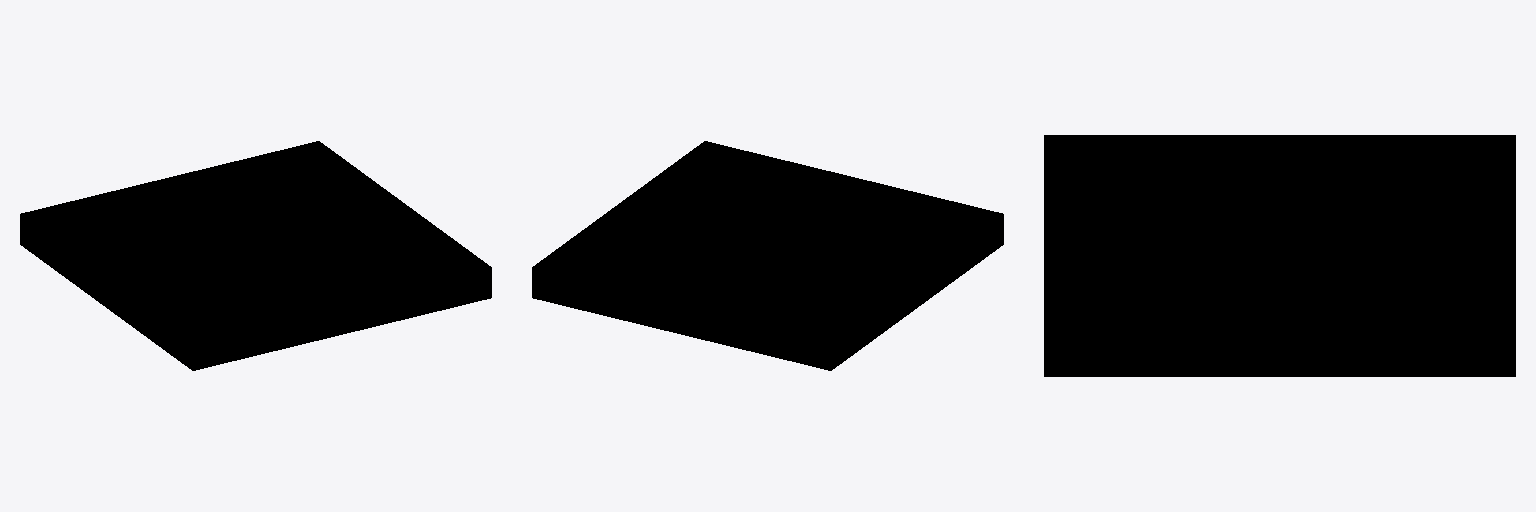
URDF robot description (plane):
<?xml version="1.0" ?>
<robot name="plane">
  <link name="planeLink">
  <contact>
      <lateral_friction value="1"/>
  </contact>
  <inertial>
    <origin rpy="0 0 0" xyz="0 0 0"/>
    <mass value=".0"/>
    <inertia ixx="0" ixy="0" ixz="0" iyy="0" iyz="0" izz="0"/>
  </inertial>
  <visual>
    <origin rpy="0 0 0" xyz="0 0 0"/>
    <geometry>
      <box size="1000 1000 100"/>
    </geometry>
    <material name="White">
      <color rgba="0 0 0 1" />
    </material>
  </visual>
  <collision>
    <origin rpy="0 0 0" xyz="0 0 0"/>
    <geometry>
    <box size="1000 1000 100"/>
    </geometry>
  </collision>
  </link>
</robot>

--- Facts derived from the render (not from the file) ---
Views: 3 orthographic renders of the robot side by side, from view 1: azimuth 30°, elevation 25°; view 2: azimuth 150°, elevation 25°; view 3: azimuth 270°, elevation 25°.
Robot: plane — 1 links, 0 joints (none); root link planeLink; default pose: every joint at zero.
Visible links, largest first — view 1: planeLink; view 2: planeLink; view 3: planeLink.
Link boxes in pixels (left/top/right/bottom): planeLink: left=20, top=141, right=491, bottom=370; planeLink: left=532, top=141, right=1003, bottom=370; planeLink: left=1044, top=135, right=1515, bottom=376.
Size in the robot's own frame: 1000 by 1000 by 100 metres.
Geometry: primitives only (box / cylinder / sphere), no mesh files.
